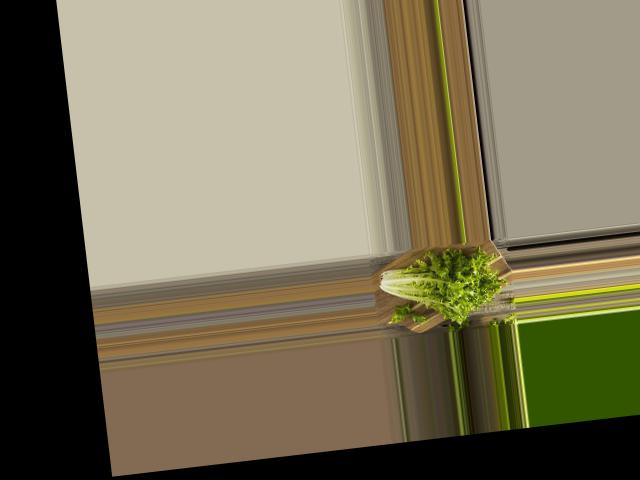lettuce: (369, 243, 505, 331)
